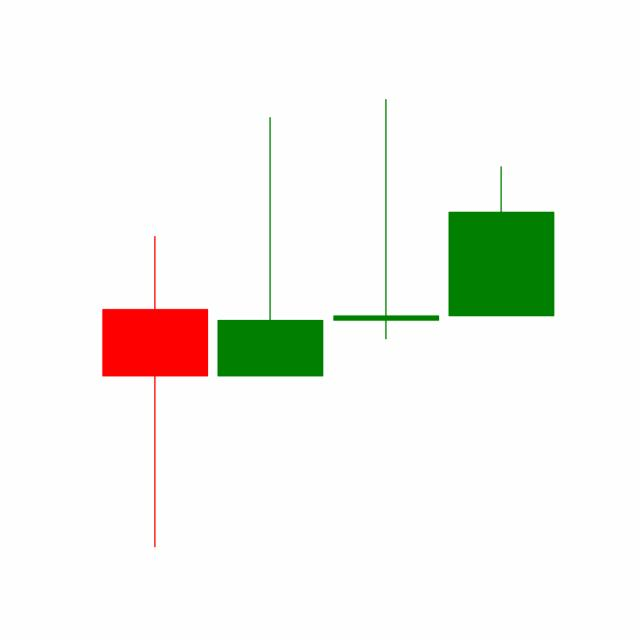Gravestone Doji: (328, 95, 444, 342)
